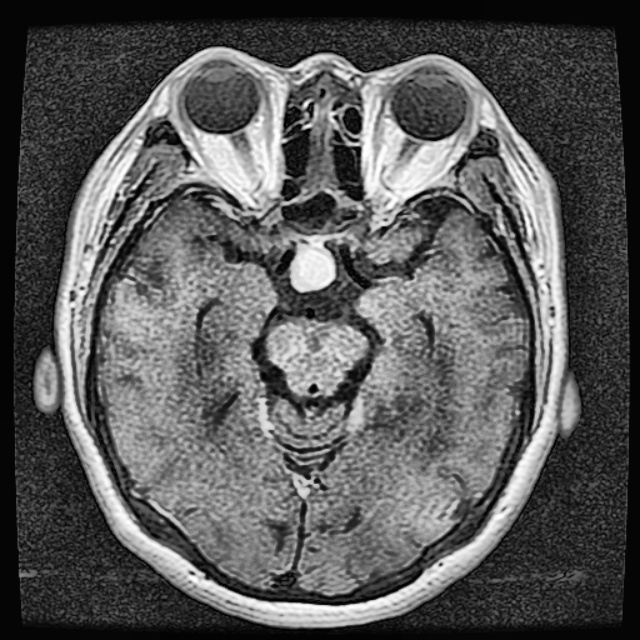Pituitary: (292, 239, 333, 292)
